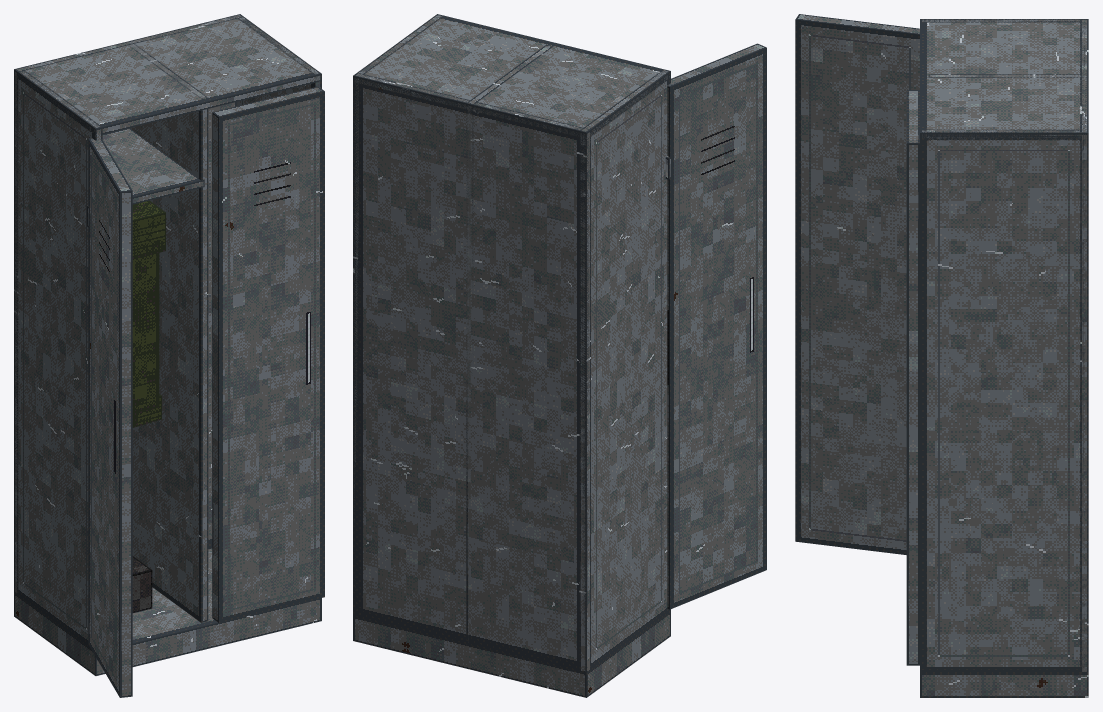
The model's file is SM_Locker_Open_01.glb.
The picture shows the model from 3 angles, left to right: view 1: azimuth 30°, elevation 25°; view 2: azimuth 150°, elevation 25°; view 3: azimuth 270°, elevation 25°; orthographic projection. The views are drawn at different scales.
Visible parts, largest first — view 1: SM_Locker_Open_01; view 2: SM_Locker_Open_01; view 3: SM_Locker_Open_01.
Boxes of the visible parts, x1,y1,x2,y2 form: SM_Locker_Open_01: (14,14,324,697); SM_Locker_Open_01: (353,14,766,697); SM_Locker_Open_01: (795,14,1088,697).
Size of the model in its own units: 0.9215 by 1.85 by 0.87.
Materials: 1 (1 with a texture image).
